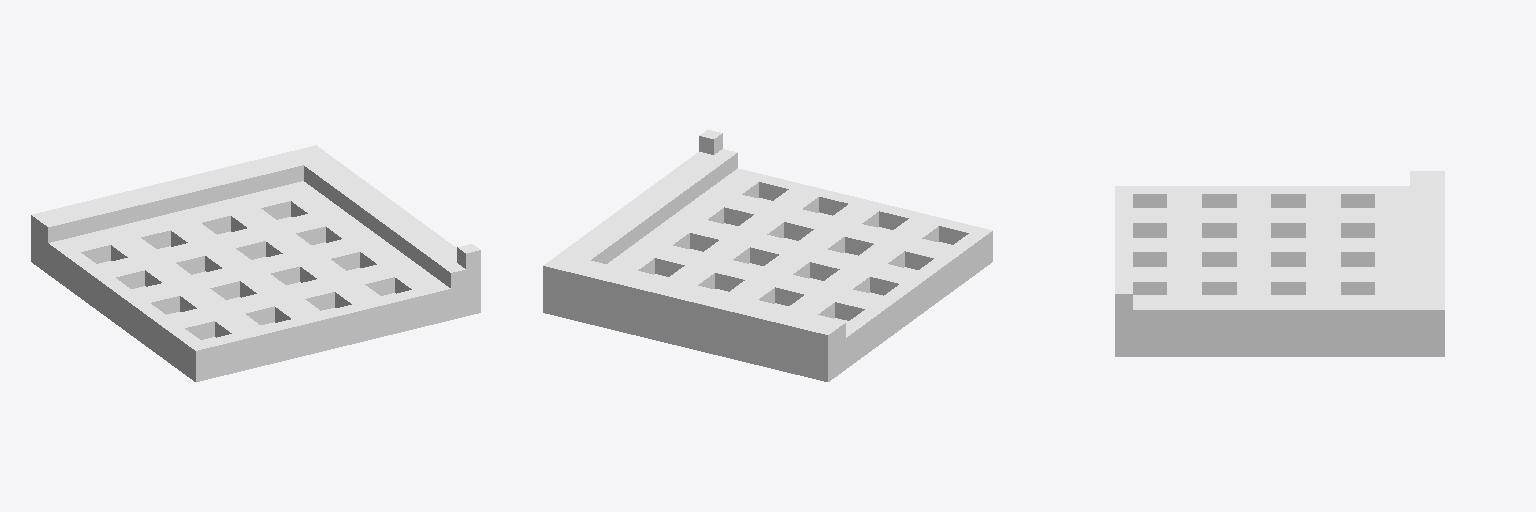
Rendered from cubierta_2.obj.
The picture shows the model from 3 angles: view 1: azimuth 30°, elevation 25°; view 2: azimuth 150°, elevation 25°; view 3: azimuth 270°, elevation 25°; orthographic projection.
Size of the model in its own units: 19 by 4 by 19.